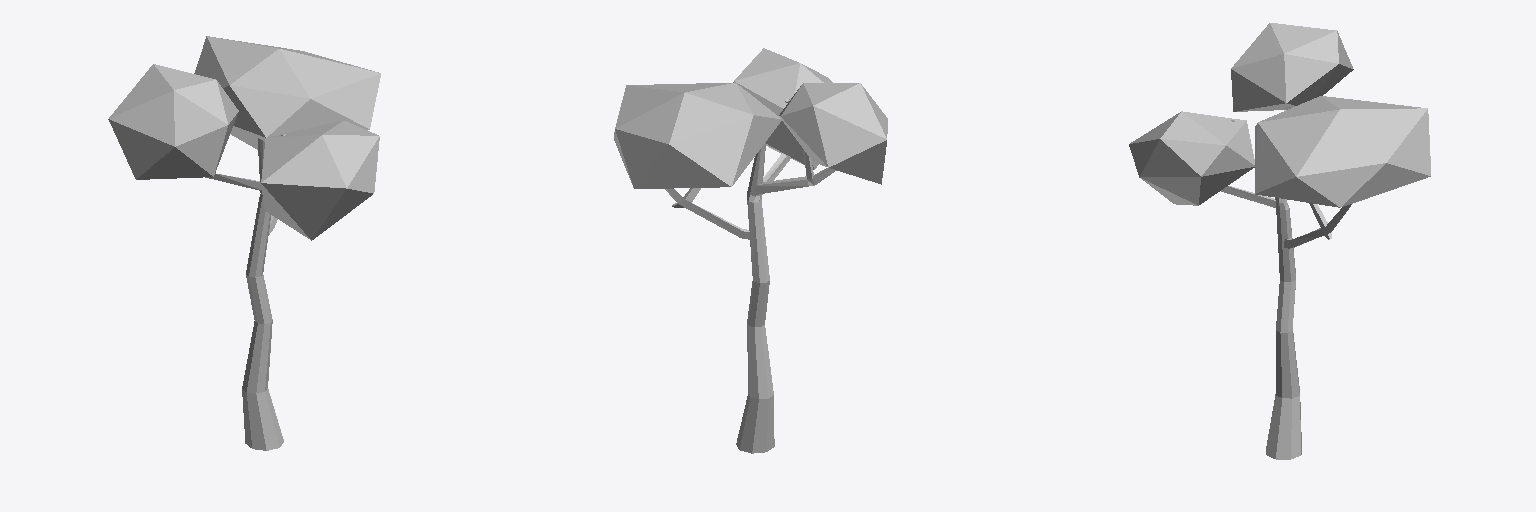
The model's file is tree2.obj.
The picture shows the model from 3 angles: view 1: azimuth 30°, elevation 25°; view 2: azimuth 150°, elevation 25°; view 3: azimuth 270°, elevation 25°; orthographic projection.
Parts seen in each view (by area): view 1: Cylinder_012; view 2: Cylinder_012; view 3: Cylinder_012.
Boxes of the visible parts, <box> form: Cylinder_012: <box>108,36,380,450</box>; Cylinder_012: <box>614,48,887,453</box>; Cylinder_012: <box>1129,23,1430,459</box>.
Bounding box in the file's own units: 18.06 × 24.65 × 17.74.